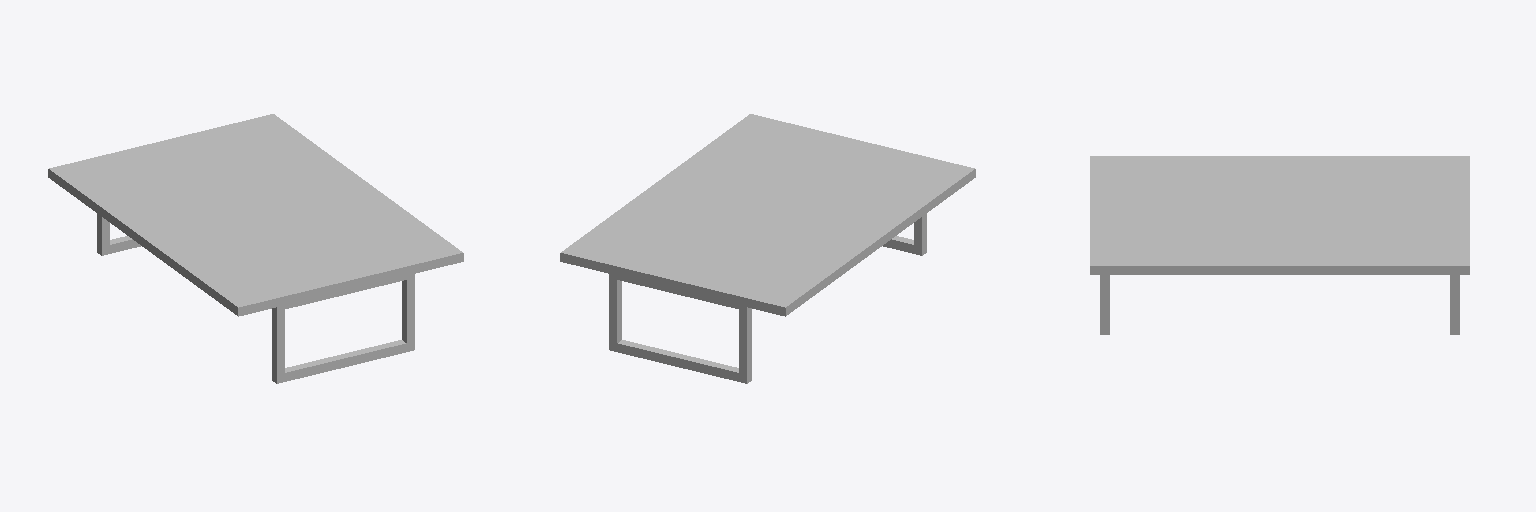
Rendered from Table01.obj.
3 renders of one model, left to right at view 1: azimuth 30°, elevation 25°; view 2: azimuth 150°, elevation 25°; view 3: azimuth 270°, elevation 25°, orthographic.
Visible parts, largest first — view 1: Table01; view 2: Table01; view 3: Table01.
Boxes of the visible parts, x1,y1,x2,y2 form: Table01: [48, 114, 463, 383]; Table01: [560, 114, 975, 383]; Table01: [1090, 156, 1469, 334].
Bounding box in the file's own units: 26 × 10 × 38.